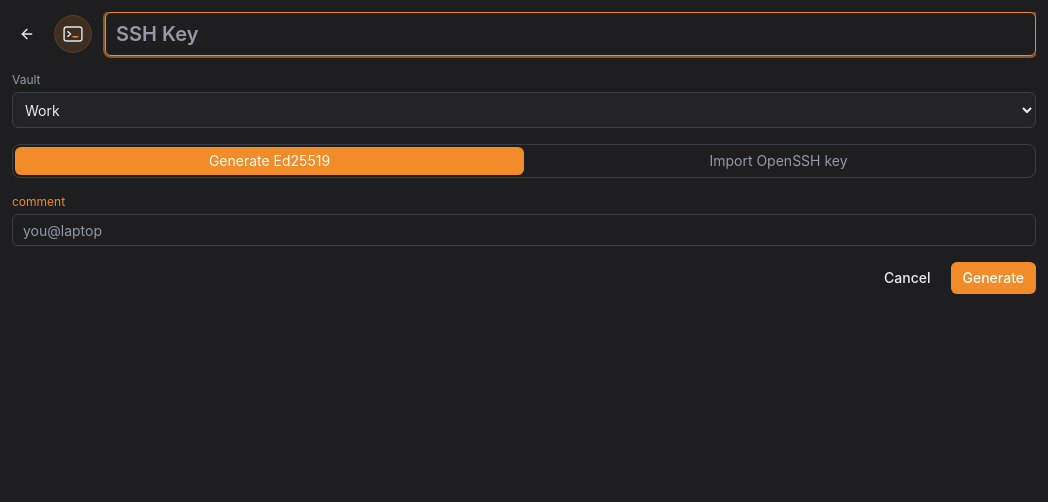
Test: SSH key create › imports with passphrase and surfaces backend errors
This screenshot has width=1048, height=502.
Click the radio button labelled "Import OpenSSH key". click: [778, 161]
box: [524, 147, 1033, 175]
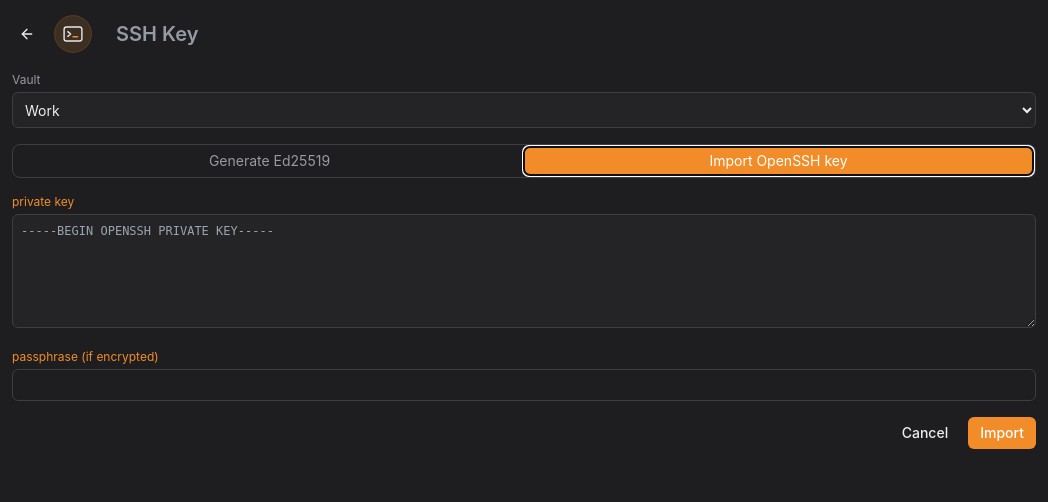
Type "PEM" into the text box labelled "PRIVATE KEY". click: [524, 271]
box: [12, 214, 1036, 328]
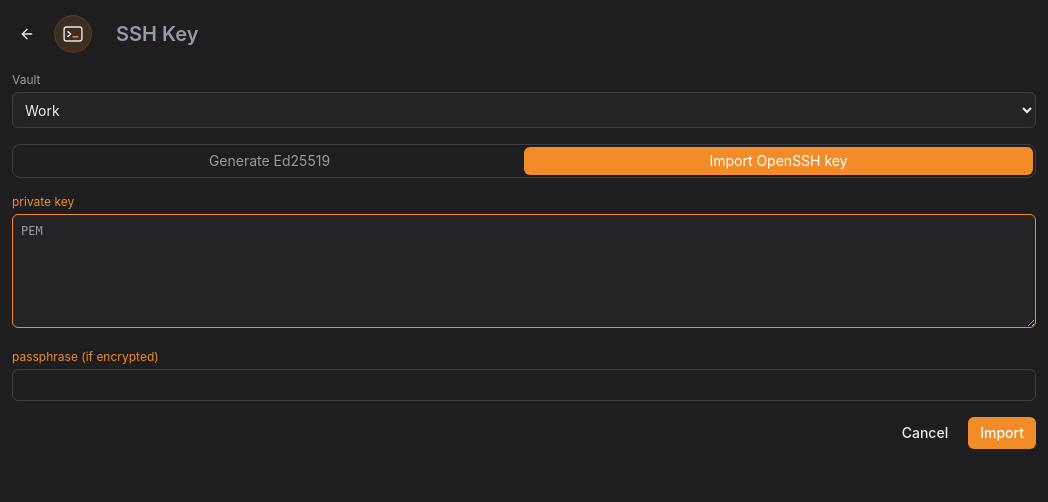
Type "pw" into the password field named "Passphrase". click: [524, 385]
box: [12, 369, 1036, 401]
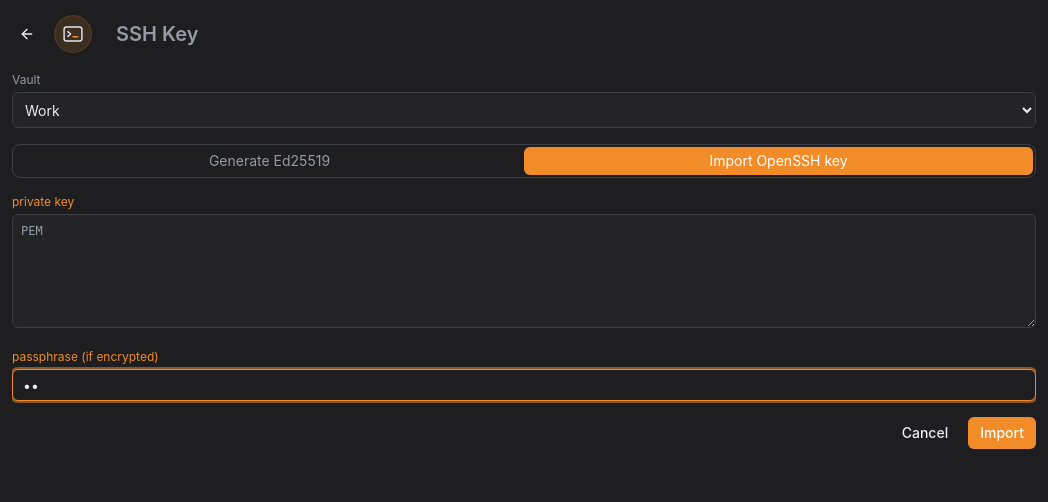
Click the button "Import". click: [1002, 433]
box: [968, 417, 1036, 449]
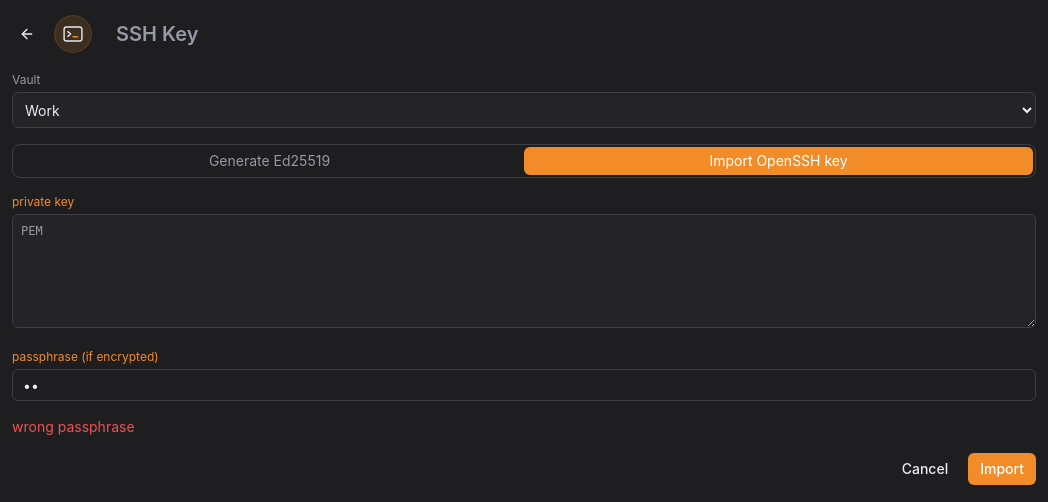
Now the message reads "wrong passphrase", box [12, 418, 135, 435]
